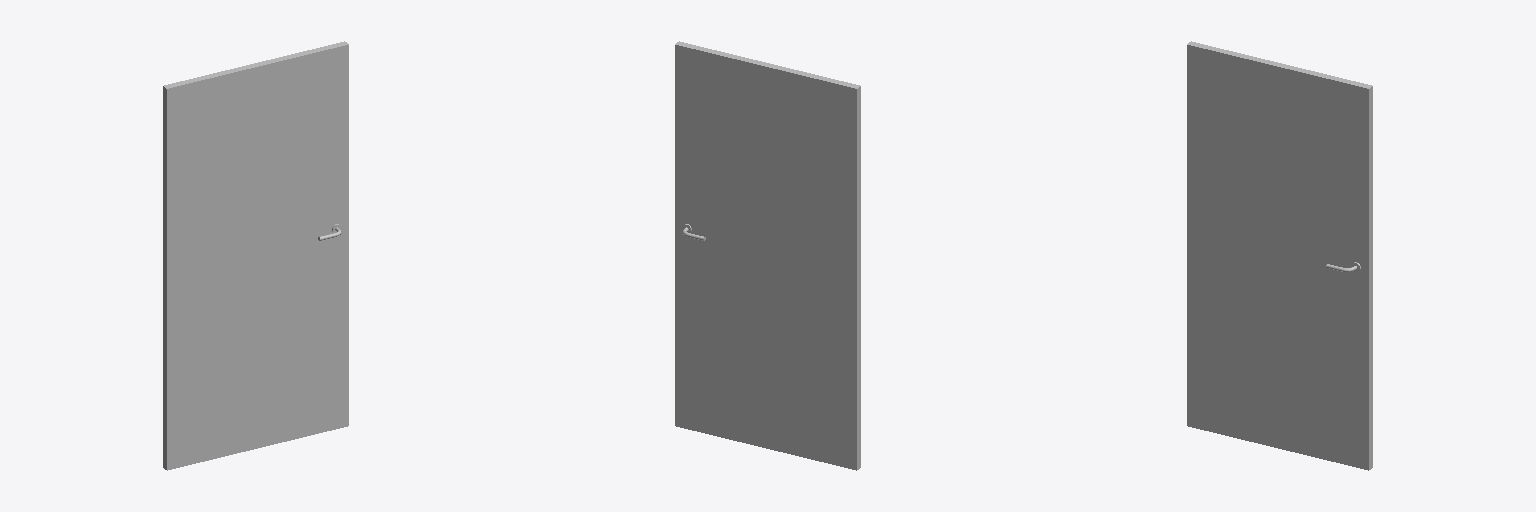
Rendered from door.obj.
3 views of the same model, side by side, from view 1: azimuth 30°, elevation 25°; view 2: azimuth 150°, elevation 25°; view 3: azimuth 330°, elevation 25° (orthographic).
Visible parts, largest first — view 1: Cylinder.002; view 2: Cylinder.002; view 3: Cylinder.002.
Boxes of the visible parts, x1=… form: Cylinder.002: x1=163, y1=41, x2=348, y2=470; Cylinder.002: x1=675, y1=41, x2=860, y2=470; Cylinder.002: x1=1187, y1=41, x2=1372, y2=470.
Size of the model in its own units: 1 by 2 by 0.1739.